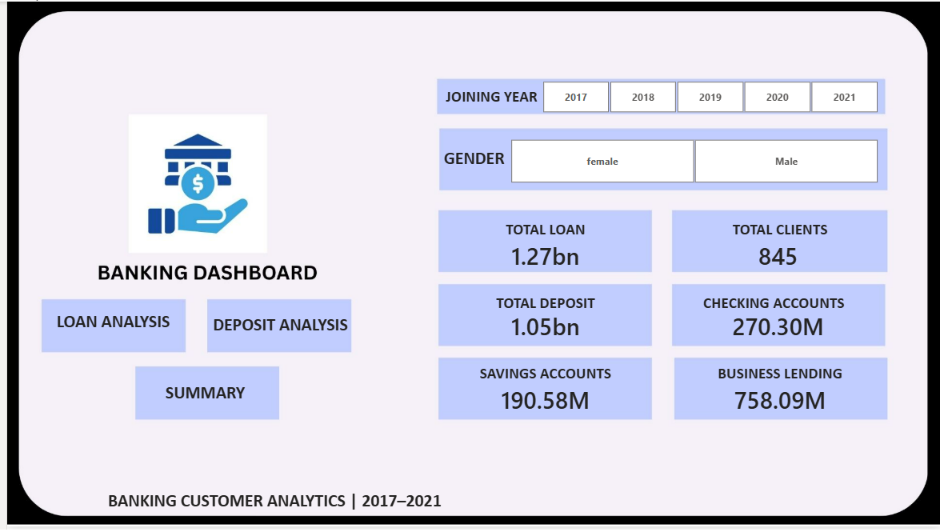

This screenshot's page, from the dashboard's own definition file:
{"tool":"powerbi","page":{"name":"Home","canvas":[1280,720],"ordinal":0},"visuals":[{"type":"textbox","box":[594.2,194.9,102.9,45.3],"z":0},{"type":"textbox","box":[594.4,295.1,289.4,45.6],"z":1000},{"type":"textbox","box":[916.5,295.1,287.9,45.6],"z":2000},{"type":"textbox","box":[594.4,394.8,289.4,45.6],"z":3000},{"type":"textbox","box":[916.5,394.8,270.8,45.6],"z":4000},{"type":"textbox","box":[594.4,493.2,289.4,44.2],"z":5000},{"type":"textbox","box":[916.5,493.2,287.9,44.2],"z":6000},{"type":"slicer","fields":{"Values":["Date.Joined Bank - Copy"]},"box":[709.8,102.6,508.9,55.6],"z":7000},{"type":"cardVisual","fields":{"Data":["CountNonNull(BANKING_CASE.Name)"]},"box":[913.9,285.4,288.2,122.1],"z":8000},{"type":"cardVisual","fields":{"Data":["BANKING_CASE.Total loan"]},"box":[594.2,285.4,289.5,122.1],"z":9000},{"type":"cardVisual","fields":{"Data":["BANKING_CASE.Total deposit"]},"box":[594.2,385.6,289.5,116.6],"z":10000},{"type":"cardVisual","fields":{"Data":["Sum(BANKING_CASE.Checking Accounts)"]},"box":[913.9,385.6,288.2,116.6],"z":11000},{"type":"cardVisual","fields":{"Data":["Sum(BANKING_CASE.Saving Accounts)"]},"box":[594.2,492.6,289.5,104.3],"z":12000},{"type":"cardVisual","fields":{"Data":["Sum(BANKING_CASE.Business Lending)"]},"box":[916.6,492.6,288.2,104.3],"z":13000},{"type":"textbox","box":[48,418.5,194.9,46.7],"z":14000},{"type":"textbox","box":[271.4,422.3,206.3,47.1],"z":15000},{"type":"textbox","box":[179.8,516,183.9,46.7],"z":16000},{"type":"textbox","box":[568.7,112.6,193.9,35.6],"z":17000},{"type":"slicer","fields":{"Values":["BANKING_CASE.GenderId"]},"box":[665.7,182.4,553.1,72.7],"z":18000},{"type":"textbox","box":[84.5,663.5,558.6,47.1],"z":19000},{"type":"actionButton","box":[174.3,502.2,194.9,74.1],"z":20000},{"type":"actionButton","box":[48,407.5,194.9,74.1],"z":21000},{"type":"actionButton","box":[277.2,407.5,194.9,74.1],"z":22000}]}

Visuals, with their boxes in screenshot pixels (x1, y1, x2, y2), scaled from the page's 1280x720 canvas onto the 940x530 screenshot:
textbox: [436,143,512,177]
textbox: [437,217,649,251]
textbox: [673,217,884,251]
textbox: [437,291,649,324]
textbox: [673,291,872,324]
textbox: [437,363,649,396]
textbox: [673,363,884,396]
slicer - Date.Joined Bank - Copy: [521,76,895,116]
cardVisual - CountNonNull(BANKING_CASE.Name): [671,210,883,300]
cardVisual - BANKING_CASE.Total loan: [436,210,649,300]
cardVisual - BANKING_CASE.Total deposit: [436,284,649,370]
cardVisual - Sum(BANKING_CASE.Checking Accounts): [671,284,883,370]
cardVisual - Sum(BANKING_CASE.Saving Accounts): [436,363,649,439]
cardVisual - Sum(BANKING_CASE.Business Lending): [673,363,885,439]
textbox: [35,308,178,342]
textbox: [199,311,351,346]
textbox: [132,380,267,414]
textbox: [418,83,560,109]
slicer - BANKING_CASE.GenderId: [489,134,895,188]
textbox: [62,488,472,523]
actionButton: [128,370,271,424]
actionButton: [35,300,178,355]
actionButton: [204,300,347,355]
